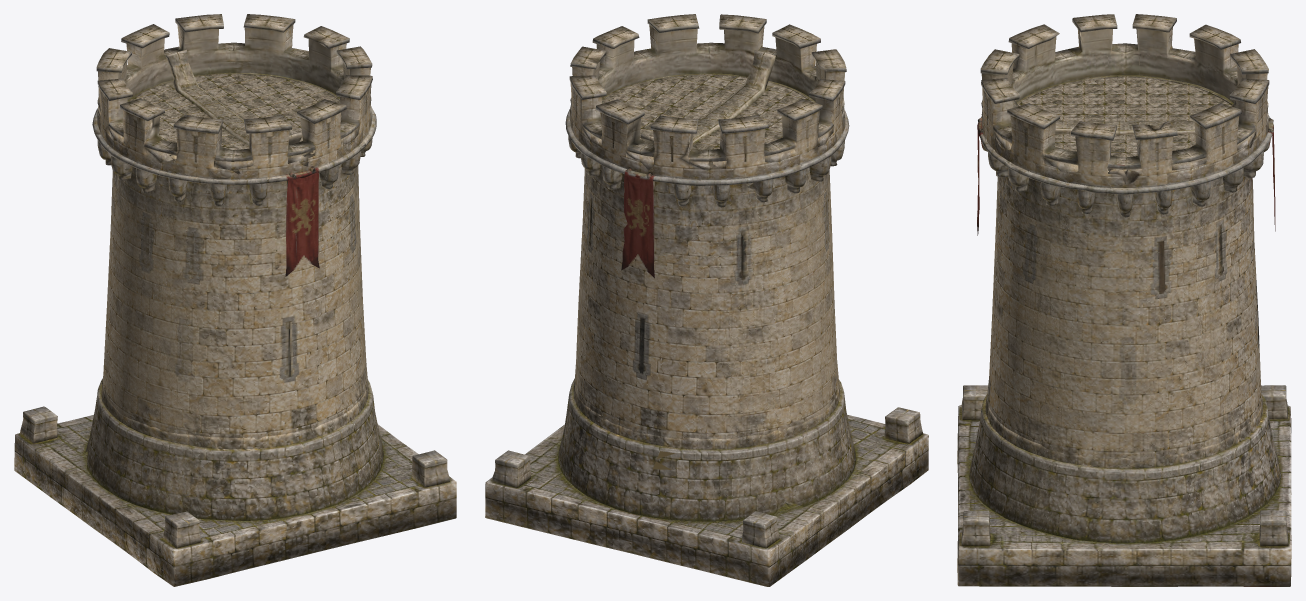
The model's file is Meshy_AI_model.glb.
3 renders of one model, left to right at view 1: azimuth 30°, elevation 25°; view 2: azimuth 150°, elevation 25°; view 3: azimuth 270°, elevation 25°, orthographic. The views are drawn at different scales.
Size of the model in its own units: 0.7059 by 1 by 0.6898.
1 material, 1 textured.
